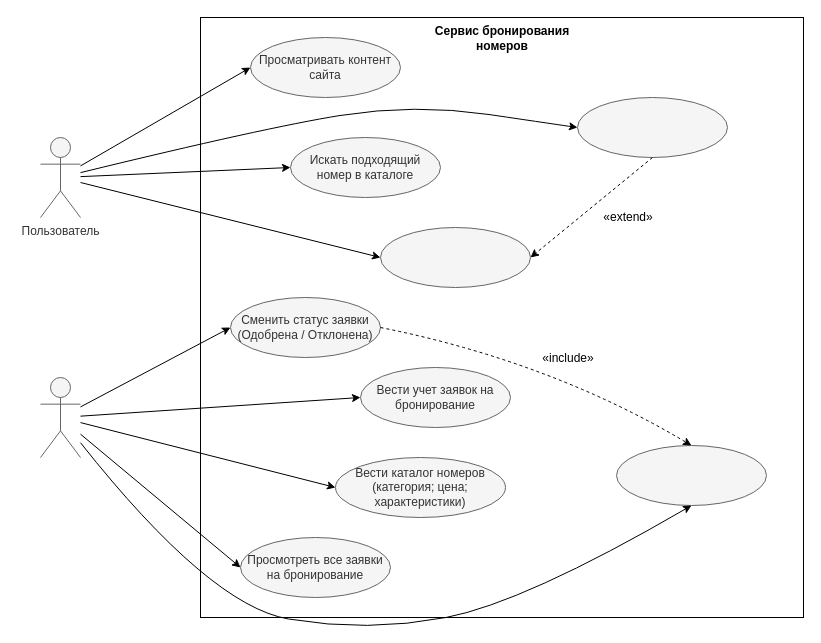
This 821x643 diagram has some shape labels left out. The centre of each missing label's shape, as x and y in pixels:
"Администратор" goes at (60,417).
"Забронировать номер" goes at (652,127).
"Посмотреть номер" goes at (455,257).
"Уточнить данные по телефону" goes at (691,475).
